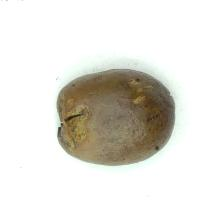NG: (55, 88, 90, 158)
